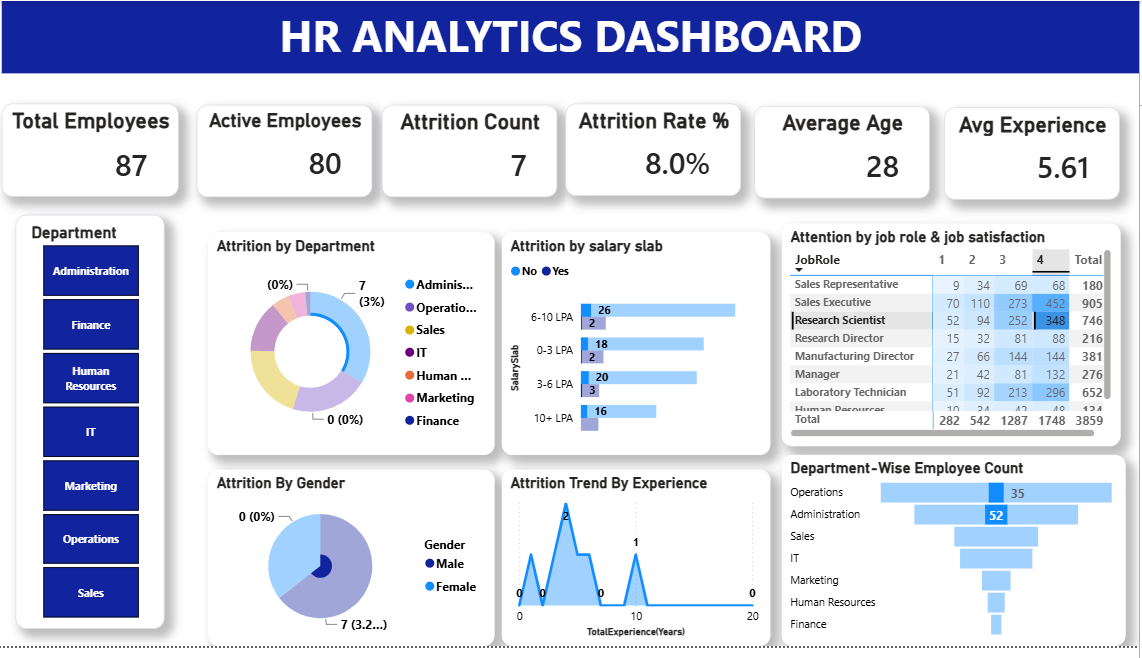

The dashboard page shown, as its layout file describes it:
{"tool":"powerbi","page":{"name":"Page 1","canvas":[1280,720],"ordinal":0},"visuals":[{"type":"textbox","box":[9.6,0,1270.7,81],"z":0},{"type":"cardVisual","title":"Total Employees","fields":{"Data":["CountNonNull(HR_Analytics-4.EmpID)"]},"box":[9.6,113.9,197.6,104.3],"z":1000},{"type":"cardVisual","title":"Active Employees","fields":{"Data":["CountNonNull(HR_Analytics-4.EmployeeCount)"]},"box":[227.8,115.3,196.2,102.9],"z":2000},{"type":"cardVisual","title":"Attrition Count","fields":{"Data":["Sum(HR_Analytics-4.AttritionCount)"]},"box":[433.6,115.3,196.2,102.9],"z":3000},{"type":"cardVisual","title":"Attrition Rate %","fields":{"Data":["HR_Analytics-4.Attrition Rate %"]},"box":[639.5,113.9,196.2,102.9],"z":4000},{"type":"cardVisual","title":"Average Age","fields":{"Data":["Count(HR_Analytics-4.Age)"]},"box":[849.4,116.6,196.2,102.9],"z":5000},{"type":"cardVisual","title":"Avg Experience","fields":{"Data":["Avg(HR_Analytics-4.YearsatCompany)"]},"box":[1062.1,118,196.2,102.9],"z":6000},{"type":"donutChart","title":"Attrition by Department","fields":{"Category":["HR_Analytics-4.Department"],"Y":["Sum(HR_Analytics-4.AttritionCount)"]},"box":[240.1,258.2,319.7,248.5],"z":7000},{"type":"clusteredBarChart","title":"Attrition by salary slab","fields":{"Category":["HR_Analytics-4.SalarySlab"],"Y":["CountNonNull(HR_Analytics-4.EmpID)"],"Series":["HR_Analytics-4.Attrition"]},"box":[568.1,258.2,300.1,248.5],"z":8000},{"type":"pivotTable","title":"Attention by job role & job satisfaction","fields":{"Rows":["HR_Analytics-4.JobRole"],"Values":["Sum(HR_Analytics-4.JobSatisfaction)"],"Columns":["HR_Analytics-4.JobSatisfaction"]},"box":[880.8,248.5,378.3,248.5],"z":9000},{"type":"pieChart","title":"Attrition By Gender","fields":{"Category":["HR_Analytics-4.Gender"],"Y":["Sum(HR_Analytics-4.AttritionCount)"]},"box":[240.1,523.4,319.7,196.8],"z":10001},{"type":"areaChart","title":"Attrition Trend By Experience","fields":{"Category":["HR_Analytics-4.TotalExperience(Years)"],"Y":["Sum(HR_Analytics-4.AttritionCount)"]},"box":[568.1,523.4,300.1,196.8],"z":10002},{"type":"funnel","title":"Department-Wise Employee Count","fields":{"Y":["CountNonNull(HR_Analytics-4.EmpID)"],"Category":["HR_Analytics-4.Department"]},"box":[880.8,506.7,383.9,213.6],"z":10003},{"type":"slicer","fields":{"Values":["HR_Analytics-4.Department"]},"box":[25.1,238.7,166.1,462],"z":10004}]}

Visuals, with their boxes in screenshot pixels (x1, y1, x2, y2), scaled from the page's 1280x720 canvas onto the 1142x658 screenshot:
textbox: Rect(9, 0, 1141, 74)
"Total Employees" cardVisual: Rect(9, 104, 185, 199)
"Active Employees" cardVisual: Rect(203, 105, 378, 199)
"Attrition Count" cardVisual: Rect(387, 105, 562, 199)
"Attrition Rate %" cardVisual: Rect(571, 104, 746, 198)
"Average Age" cardVisual: Rect(758, 107, 933, 201)
"Avg Experience" cardVisual: Rect(948, 108, 1123, 202)
"Attrition by Department" donutChart: Rect(214, 236, 499, 463)
"Attrition by salary slab" clusteredBarChart: Rect(507, 236, 775, 463)
"Attention by job role & job satisfaction" pivotTable: Rect(786, 227, 1123, 454)
"Attrition By Gender" pieChart: Rect(214, 478, 499, 657)
"Attrition Trend By Experience" areaChart: Rect(507, 478, 775, 657)
"Department-Wise Employee Count" funnel: Rect(786, 463, 1128, 657)
slicer - HR_Analytics-4.Department: Rect(22, 218, 171, 640)
